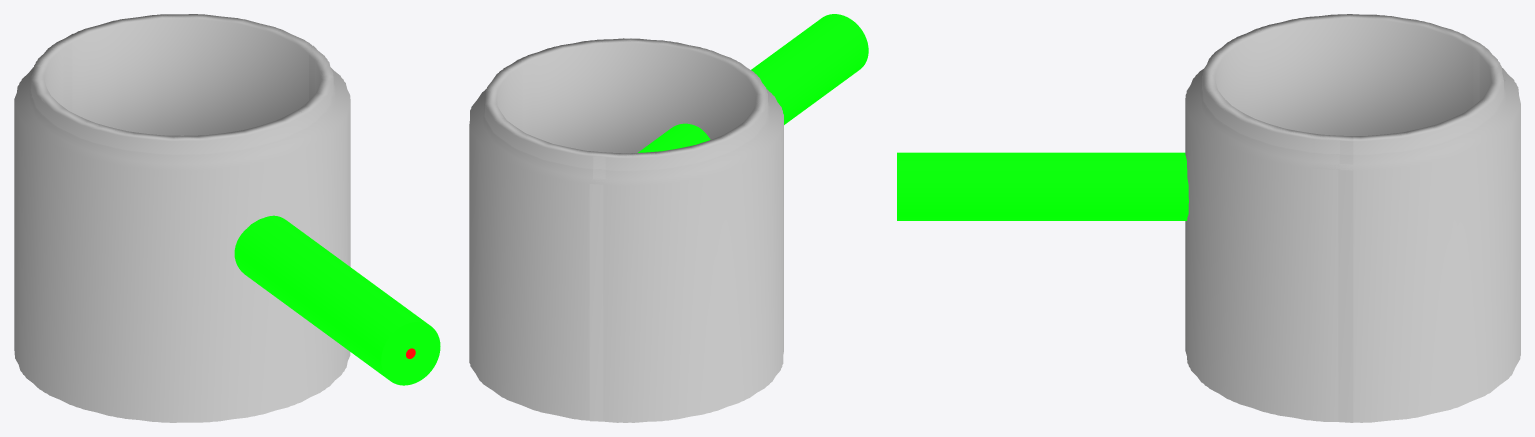
File: LOT134_0fb6260e.glb
3 renders of one model, left to right at view 1: azimuth 30°, elevation 25°; view 2: azimuth 150°, elevation 25°; view 3: azimuth 270°, elevation 25°, orthographic. The views are drawn at different scales.
Parts seen in each view (by area): view 1: item, circle_h0.800_a270.0; view 2: item, circle_h0.800_a270.0; view 3: item, circle_h0.800_a270.0.
Part boxes in pixels (x1,y1,x2,y2): item: (14, 14, 350, 422); circle_h0.800_a270.0: (234, 215, 440, 385); item: (469, 38, 783, 422); circle_h0.800_a270.0: (638, 14, 868, 152); item: (1185, 14, 1520, 422); circle_h0.800_a270.0: (897, 152, 1188, 220).
Size of the model in its own units: 1.47 by 1.33 by 2.74.
